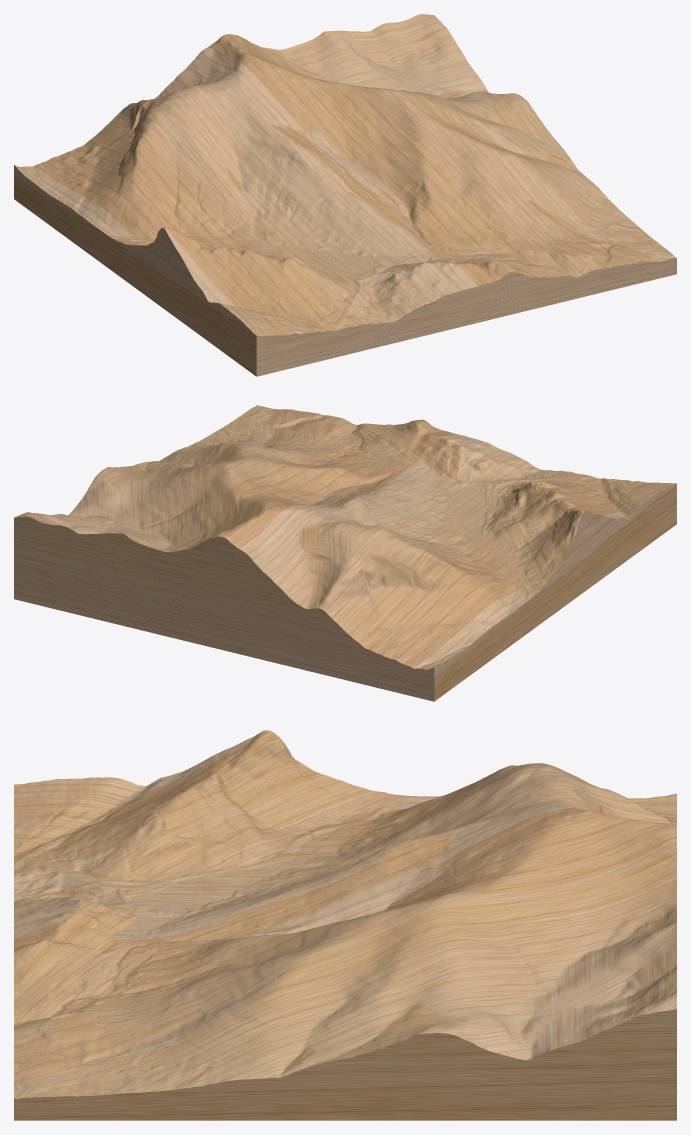
The model's file is cannon-tan-bump-maple.glb.
3 views of the same model, one above another, from view 1: azimuth 30°, elevation 25°; view 2: azimuth 150°, elevation 25°; view 3: azimuth 270°, elevation 25° (orthographic). The views are drawn at different scales.
Parts seen in each view (by area): view 1: cannon cavity v2; view 2: cannon cavity v2; view 3: cannon cavity v2.
Boxes of the visible parts, x1,y1,x2,y2 form: cannon cavity v2: (14,14,676,376); cannon cavity v2: (14,405,676,701); cannon cavity v2: (14,730,676,1120).
Bounding box in the file's own units: 23.46 × 6.35 × 23.46.
1 material, 1 textured.
